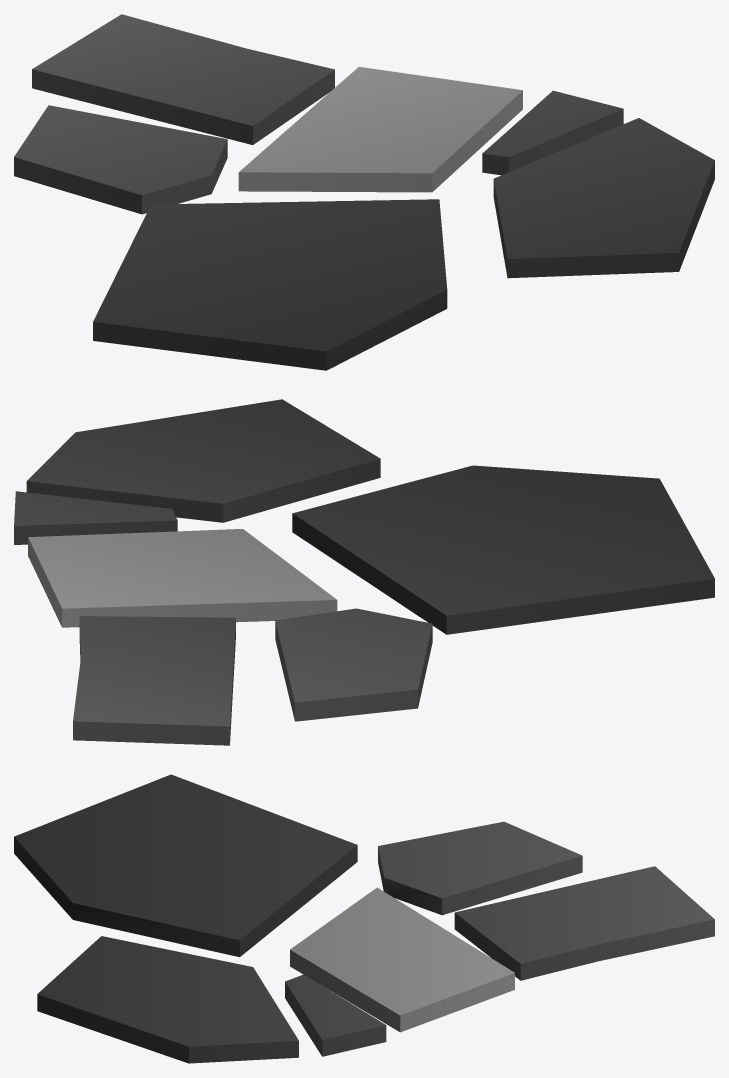
File: stone_pathway_2.glb
3 renders of one model, top to bottom at view 1: azimuth 30°, elevation 25°; view 2: azimuth 150°, elevation 25°; view 3: azimuth 270°, elevation 25°, orthographic. The views are drawn at different scales.
Parts seen in each view (by area): view 1: Object_2; view 2: Object_2; view 3: Object_2.
Part boxes in pixels (x1=…): Object_2: x1=14, y1=14, x2=714, y2=370; Object_2: x1=14, y1=399, x2=714, y2=745; Object_2: x1=14, y1=774, x2=714, y2=1063.
Size of the model in its own units: 1.76 by 0.0508 by 1.91.
Materials: 1 (1 with a texture image).
